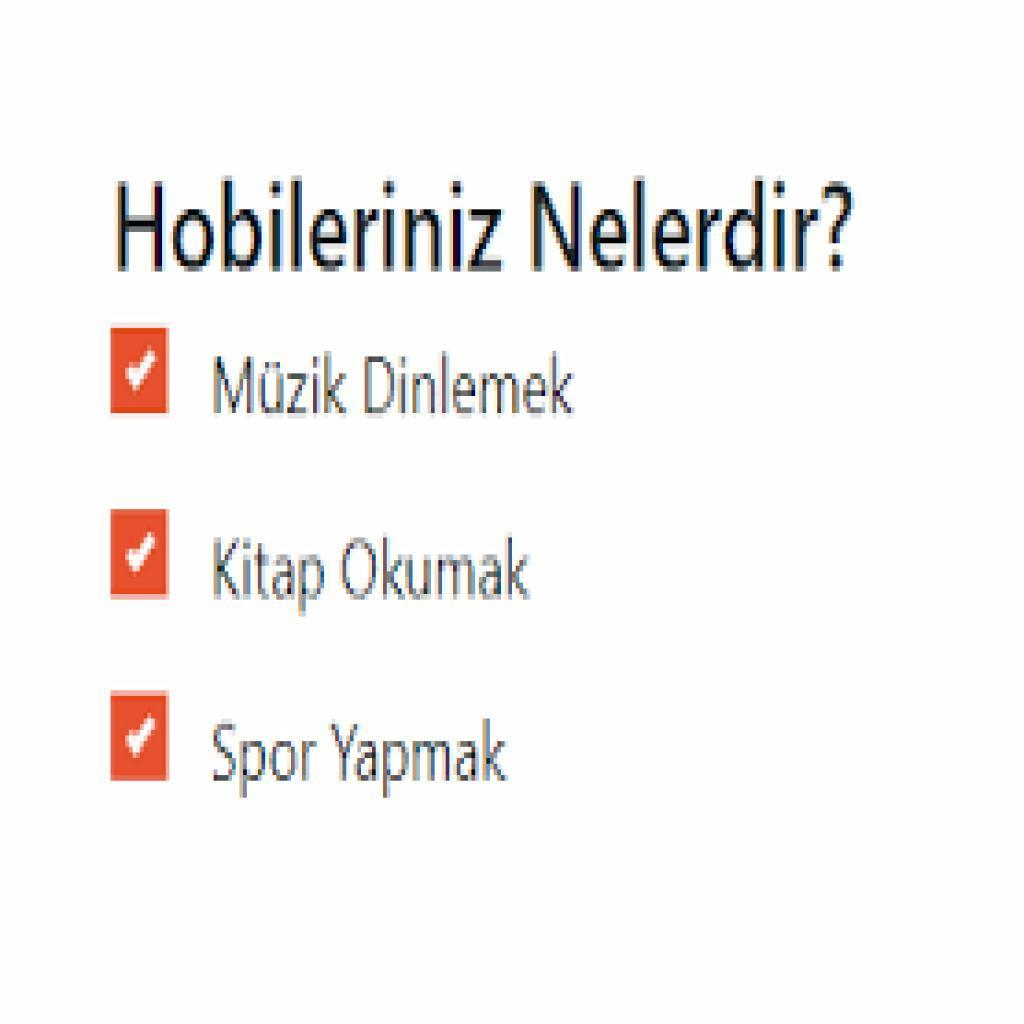checkbox: (111, 510, 168, 596), (113, 696, 166, 779), (111, 331, 168, 408)
label: (106, 161, 856, 289), (213, 350, 586, 425), (210, 533, 541, 617), (203, 712, 522, 799)
